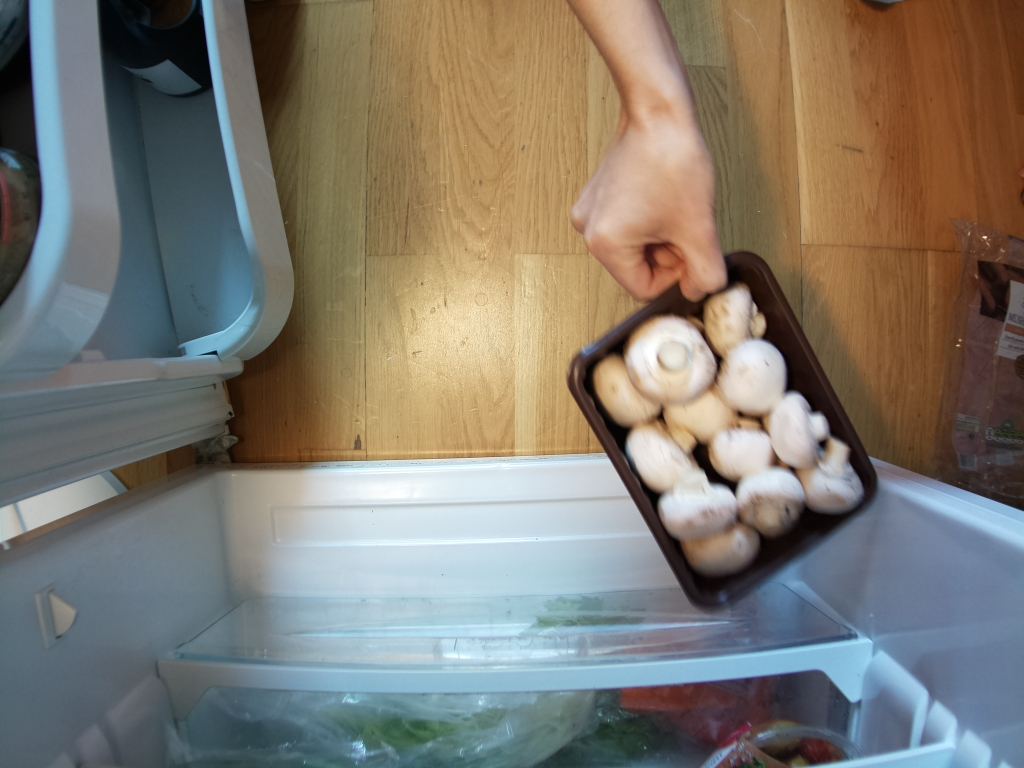mushrooms: (573, 242, 876, 609)
